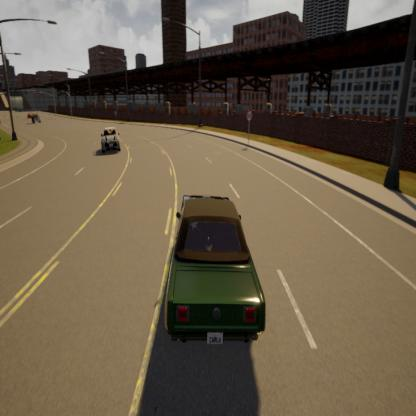Cars: (150, 186, 272, 358), (100, 126, 122, 156), (33, 113, 41, 125), (27, 109, 35, 120)
